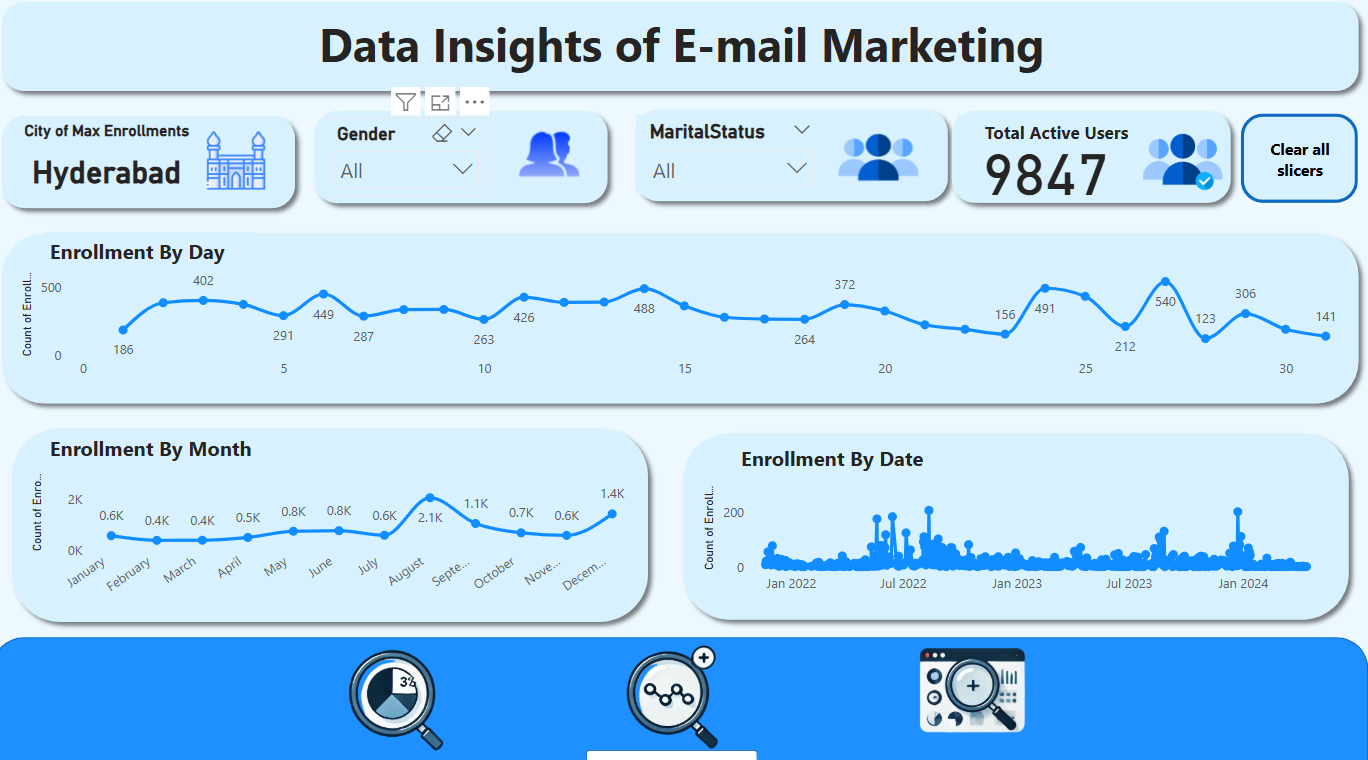

This screenshot's page, from the dashboard's own definition file:
{"tool":"powerbi","page":{"name":"Overview","canvas":[1280,720],"ordinal":0},"visuals":[{"type":"shape","box":[0,1.4,1280.3,100.9],"z":0,"group":"g3"},{"type":"group","id":"g1","title":"Group 2","box":[290.4,102.3,291.8,103.6],"z":0,"group":"g5"},{"type":"group","id":"g2","title":"Group 6","box":[426.3,211.8,427.7,372],"z":0},{"type":"shape","box":[0,601.6,1280.3,118.6],"z":0,"group":"g13"},{"type":"shape","box":[0,102.3,290.9,104],"z":500,"group":"g4"},{"type":"shape","box":[290.4,102.3,290.9,104],"z":500,"group":"g1"},{"type":"shape","box":[871.2,102.3,290.9,104],"z":500,"group":"g6"},{"type":"group","id":"g3","title":"Group 1","box":[0,1.4,1280.3,100.9],"z":1000},{"type":"shape","box":[580.8,102.3,290.4,103.6],"z":1000,"group":"g7"},{"type":"slicer","title":"Year","fields":{"Values":["TBL_CustomerProfileData.Enrolled on .Variation.Date Hierarchy.Year"]},"box":[312.1,117.3,136.5,72.4],"z":1000,"group":"g5"},{"type":"shape","box":[0,211.8,426.3,372],"z":1000,"group":"g9"},{"type":"shape","box":[426.3,211.8,427.7,372],"z":1000,"group":"g10"},{"type":"shape","box":[852.6,211.8,427.7,372],"z":1000,"group":"g12"},{"type":"image","box":[290.4,600.9,160.9,120],"z":1000,"group":"g13"},{"type":"textbox","box":[31.4,15.9,1220.3,70.9],"z":1500,"group":"g3"},{"type":"pieChart","fields":{"Category":["TBL_CustomerProfileData.Living status"],"Y":["CountNonNull(TBL_CustomerProfileData.Id)"]},"box":[453.9,255.9,372.2,283.6],"z":2000},{"type":"image","box":[552.4,601.4,165,118.6],"z":2000,"group":"g13"},{"type":"group","id":"g4","title":"Group 2","box":[0,102.3,290.9,104],"z":3000},{"type":"image","box":[818.1,601.3,186.8,117.3],"z":3000,"group":"g13"},{"type":"group","id":"g5","title":"Group 3","box":[290.4,102.3,291.8,103.6],"z":4000},{"type":"group","id":"g6","title":"Group 2","box":[871.2,102.3,290.4,103.6],"z":4000,"group":"g8"},{"type":"group","id":"g7","title":"Group 4","box":[580.8,102.3,290.4,103.6],"z":5000},{"type":"group","id":"g8","title":"Group 7","box":[871.2,102.3,290.4,103.6],"z":6000},{"type":"card","title":"Dominating marital Status","fields":{"Values":["Min(TBL_CustomerProfileData.MaritalStatus)"]},"box":[22.3,117.3,171.4,72.4],"z":6000,"group":"g4"},{"type":"card","title":"No.of cities Enrolled","fields":{"Values":["Count(TBL_CustomerProfileData.City)"]},"box":[889,136.8,181.1,57.1],"z":6000,"group":"g8"},{"type":"textbox","box":[884.8,114.5,189.5,27.9],"z":7000,"group":"g8"},{"type":"slicer","fields":{"Values":["TBL_CustomerProfileData.State"]},"box":[599.2,118.6,253.5,71],"z":7000,"group":"g7"},{"type":"group","id":"g9","title":"Group 5","box":[0,211.8,426.3,372],"z":7000},{"type":"group","id":"g10","title":"Group 5","box":[426.3,211.8,427.7,372],"z":8000,"group":"g2"},{"type":"group","id":"g11","title":"Group 6","box":[852.6,211.8,427.7,372],"z":8000},{"type":"group","id":"g12","title":"Group 5","box":[852.6,211.8,427.7,372],"z":8000,"group":"g11"},{"type":"textbox","box":[72.2,224.4,280.6,42.3],"z":9000},{"type":"textbox","box":[925,224.5,281.5,42.3],"z":9000,"group":"g11"},{"type":"textbox","box":[497.6,225.3,314.6,42.4],"z":9000,"group":"g2"},{"type":"shape","box":[1161.7,114.5,109.1,83.2],"z":10000},{"type":"columnChart","fields":{"Y":["CountNonNull(TBL_CustomerProfileData.Id)"],"Category":["TBL_CustomerProfileData.GenderCode"]},"box":[31.2,252.3,366.5,288.8],"z":10001,"group":"g9"},{"type":"lineChart","fields":{"Category":["TBL_CustomerProfileData.Enrolled on .Variation.Date Hierarchy.Month"],"Y":["CountNonNull(TBL_CustomerProfileData.Id)"]},"box":[883.9,252.3,367.7,288.8],"z":10001,"group":"g12"},{"type":"actionButton","box":[1178,126.8,77.7,60],"z":11000},{"type":"group","id":"g13","title":"Group 8","box":[0,600.9,1280.3,120],"z":12000},{"type":"shape","box":[291.4,706.8,160,12.9],"z":12001,"group":"g13"},{"type":"image","box":[454.2,118.4,100.3,69.7],"z":13000},{"type":"image","box":[176.9,121.9,96.1,65.5],"z":14000},{"type":"image","box":[1050.4,121.2,94.7,65.5],"z":15000}]}

Visuals, with their boxes in screenshot pixels (x1, y1, x2, y2), scaled from the page's 1280x720 canvas onto the 1368x760 screenshot:
shape: detection(0, 1, 1367, 108)
"Group 2" group: detection(310, 108, 622, 217)
"Group 6" group: detection(456, 224, 913, 616)
shape: detection(0, 635, 1367, 759)
shape: detection(0, 108, 311, 218)
shape: detection(310, 108, 621, 218)
shape: detection(931, 108, 1242, 218)
"Group 1" group: detection(0, 1, 1367, 108)
shape: detection(621, 108, 931, 217)
"Year" slicer: detection(334, 124, 479, 200)
shape: detection(0, 224, 456, 616)
shape: detection(456, 224, 913, 616)
shape: detection(911, 224, 1367, 616)
image: detection(310, 634, 482, 759)
textbox: detection(34, 17, 1338, 92)
pieChart - TBL_CustomerProfileData.Living status x CountNonNull(TBL_CustomerProfileData.Id): detection(485, 270, 883, 569)
image: detection(590, 635, 767, 759)
"Group 2" group: detection(0, 108, 311, 218)
image: detection(874, 635, 1074, 759)
"Group 3" group: detection(310, 108, 622, 217)
"Group 2" group: detection(931, 108, 1241, 217)
"Group 4" group: detection(621, 108, 931, 217)
"Group 7" group: detection(931, 108, 1241, 217)
"Dominating marital Status" card: detection(24, 124, 207, 200)
"No.of cities Enrolled" card: detection(950, 144, 1144, 205)
textbox: detection(946, 121, 1148, 150)
slicer - TBL_CustomerProfileData.State: detection(640, 125, 911, 200)
"Group 5" group: detection(0, 224, 456, 616)
"Group 5" group: detection(456, 224, 913, 616)
"Group 6" group: detection(911, 224, 1367, 616)
"Group 5" group: detection(911, 224, 1367, 616)
textbox: detection(77, 237, 377, 282)
textbox: detection(989, 237, 1289, 282)
textbox: detection(532, 238, 868, 283)
shape: detection(1242, 121, 1358, 209)
columnChart - CountNonNull(TBL_CustomerProfileData.Id) x TBL_CustomerProfileData.GenderCode: detection(33, 266, 425, 571)
lineChart - TBL_CustomerProfileData.Enrolled on .Variation.Date Hierarchy.Month x CountNonNull(TBL_CustomerProfileData.Id): detection(945, 266, 1338, 571)
actionButton: detection(1259, 134, 1342, 197)
"Group 8" group: detection(0, 634, 1367, 759)
shape: detection(311, 746, 482, 759)
image: detection(485, 125, 593, 199)
image: detection(189, 129, 292, 198)
image: detection(1123, 128, 1224, 197)
